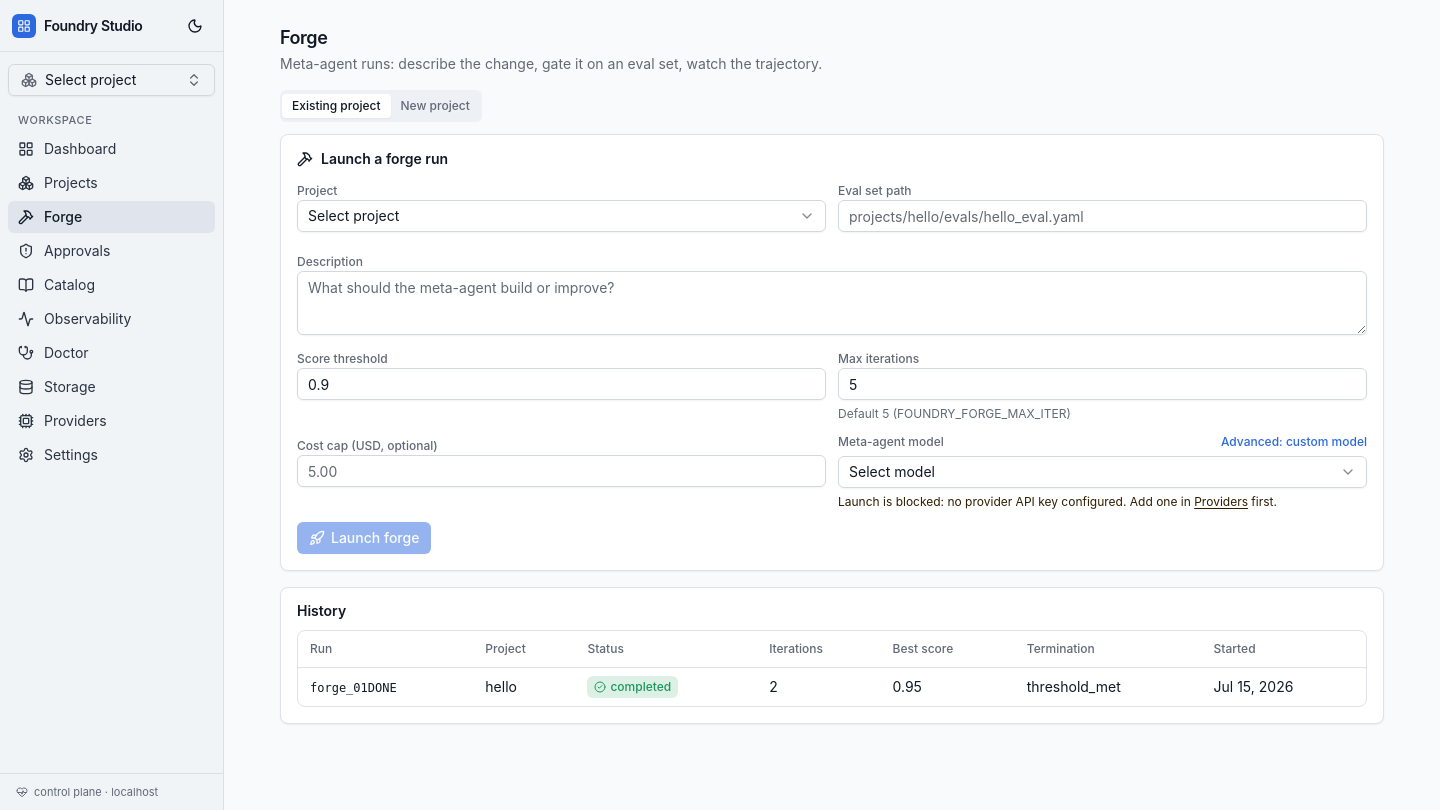
Scenario: forge model select › shows an empty state and blocks launch when no provider has a key
This screenshot has width=1440, height=810.
Expected: the text "Launch is blocked: no provider API key" is shown, [838,494,1191,509]
Expected: the button "Launch forge" is disabled, [297,522,431,554]
Click the dropdown named "Meta-agent model": (892, 472) [838,456,1367,488]
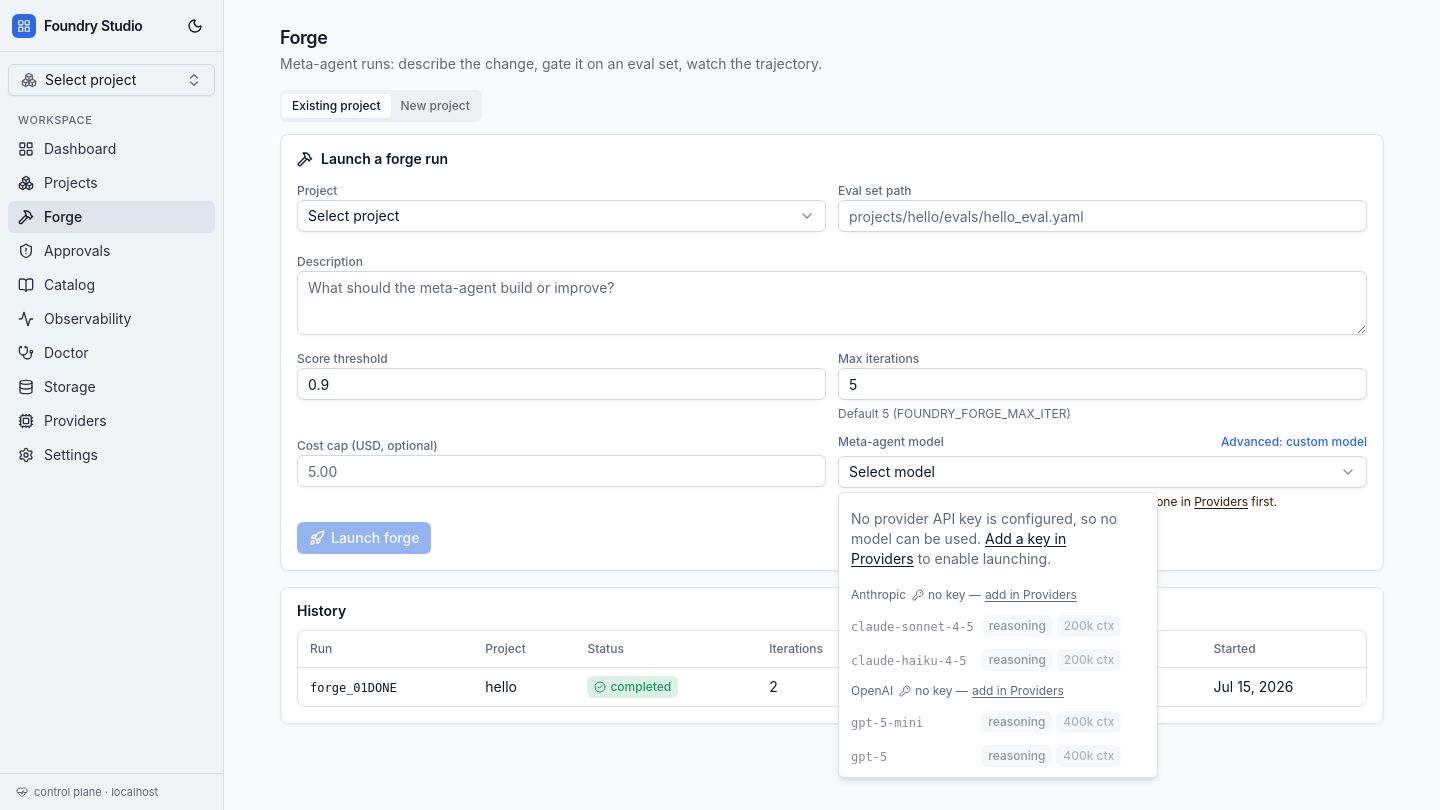
Expected: the text "no model can be used" is shown, [851,510,1117,547]
